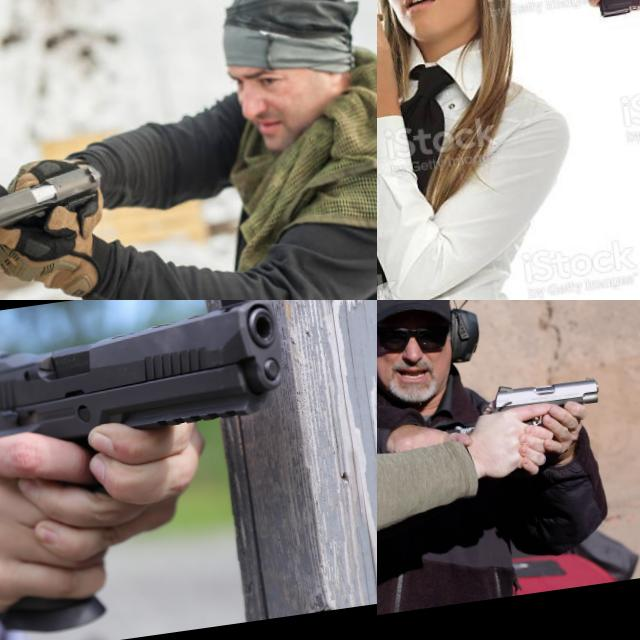handgun: (0, 300, 295, 460), (473, 0, 640, 68), (474, 368, 606, 432), (0, 161, 107, 239)
